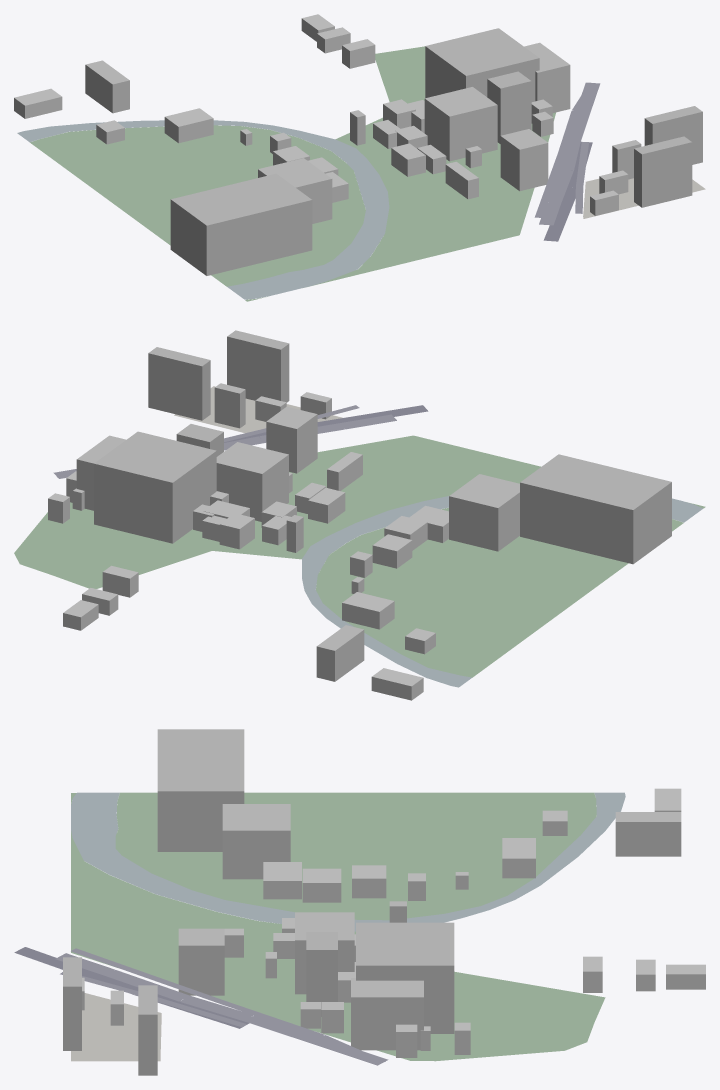
File: 118_112_mid.glb
The picture shows the model from 3 angles, top to bottom: view 1: azimuth 30°, elevation 25°; view 2: azimuth 150°, elevation 25°; view 3: azimuth 270°, elevation 25°; orthographic projection. The views are drawn at different scales.
Size of the model in its own units: 532 by 59.19 by 543.
